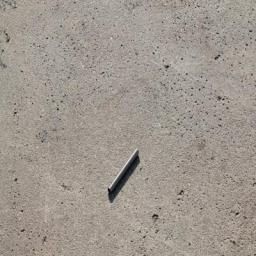FOD: (106, 147, 146, 203)
